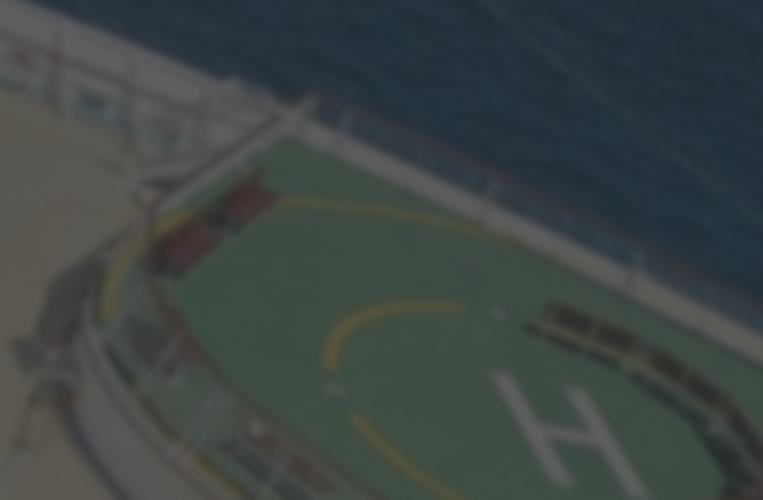Apron: (312, 250, 760, 500)
